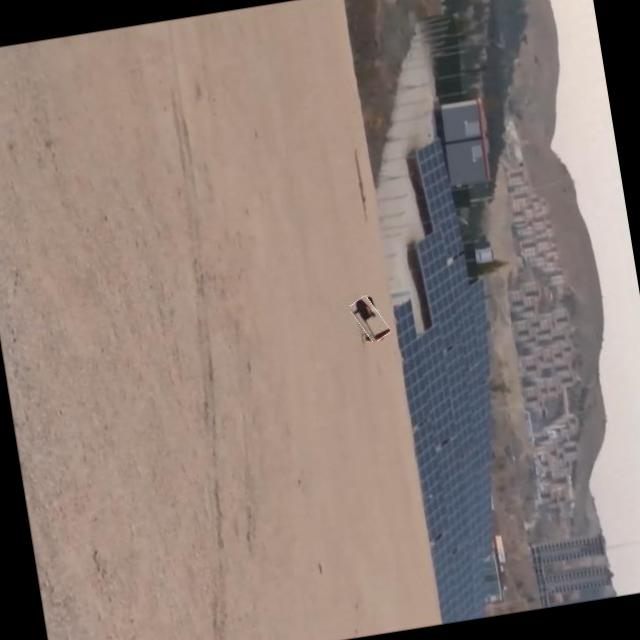UAV: (326, 272, 440, 394)
